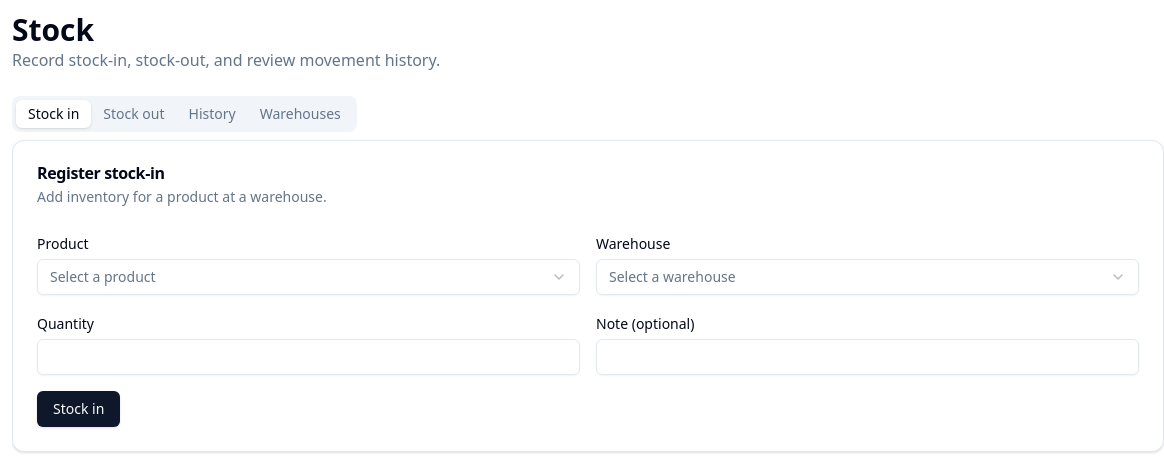
Test: StockPanel (在庫操作) › 履歴タブで過去の在庫移動が表示される
Click the tab "History": (212, 114) [176,100,248,128]
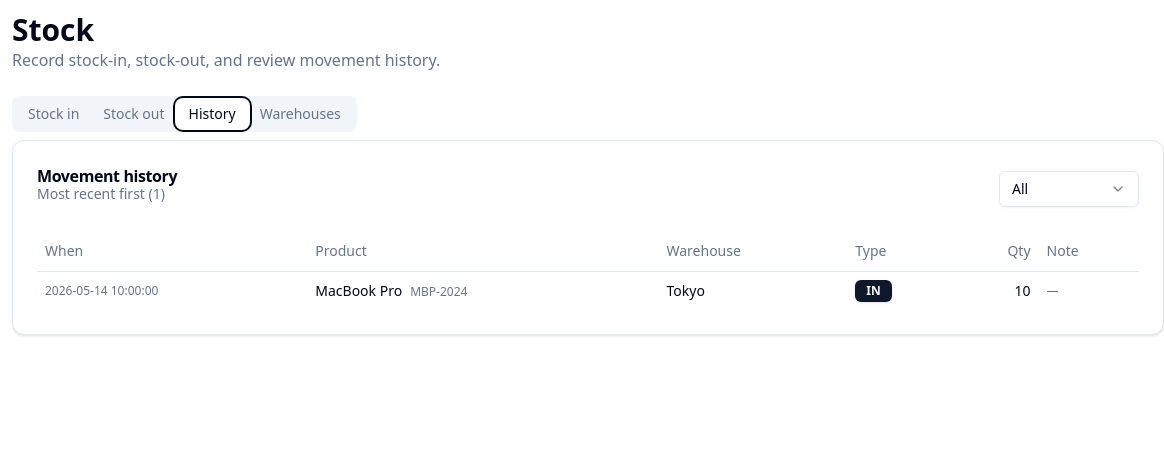
Now the text "Movement history" is shown, box [37,168,177,184]
Now the text "MacBook Pro" is shown, box [315,280,402,300]
Now the text "Tokyo" is shown, box [658,271,847,310]
